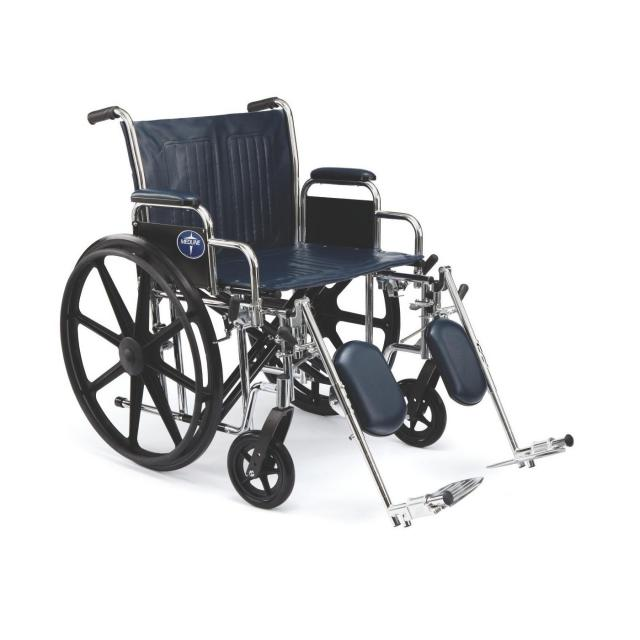wheelchair: (49, 84, 584, 548)
